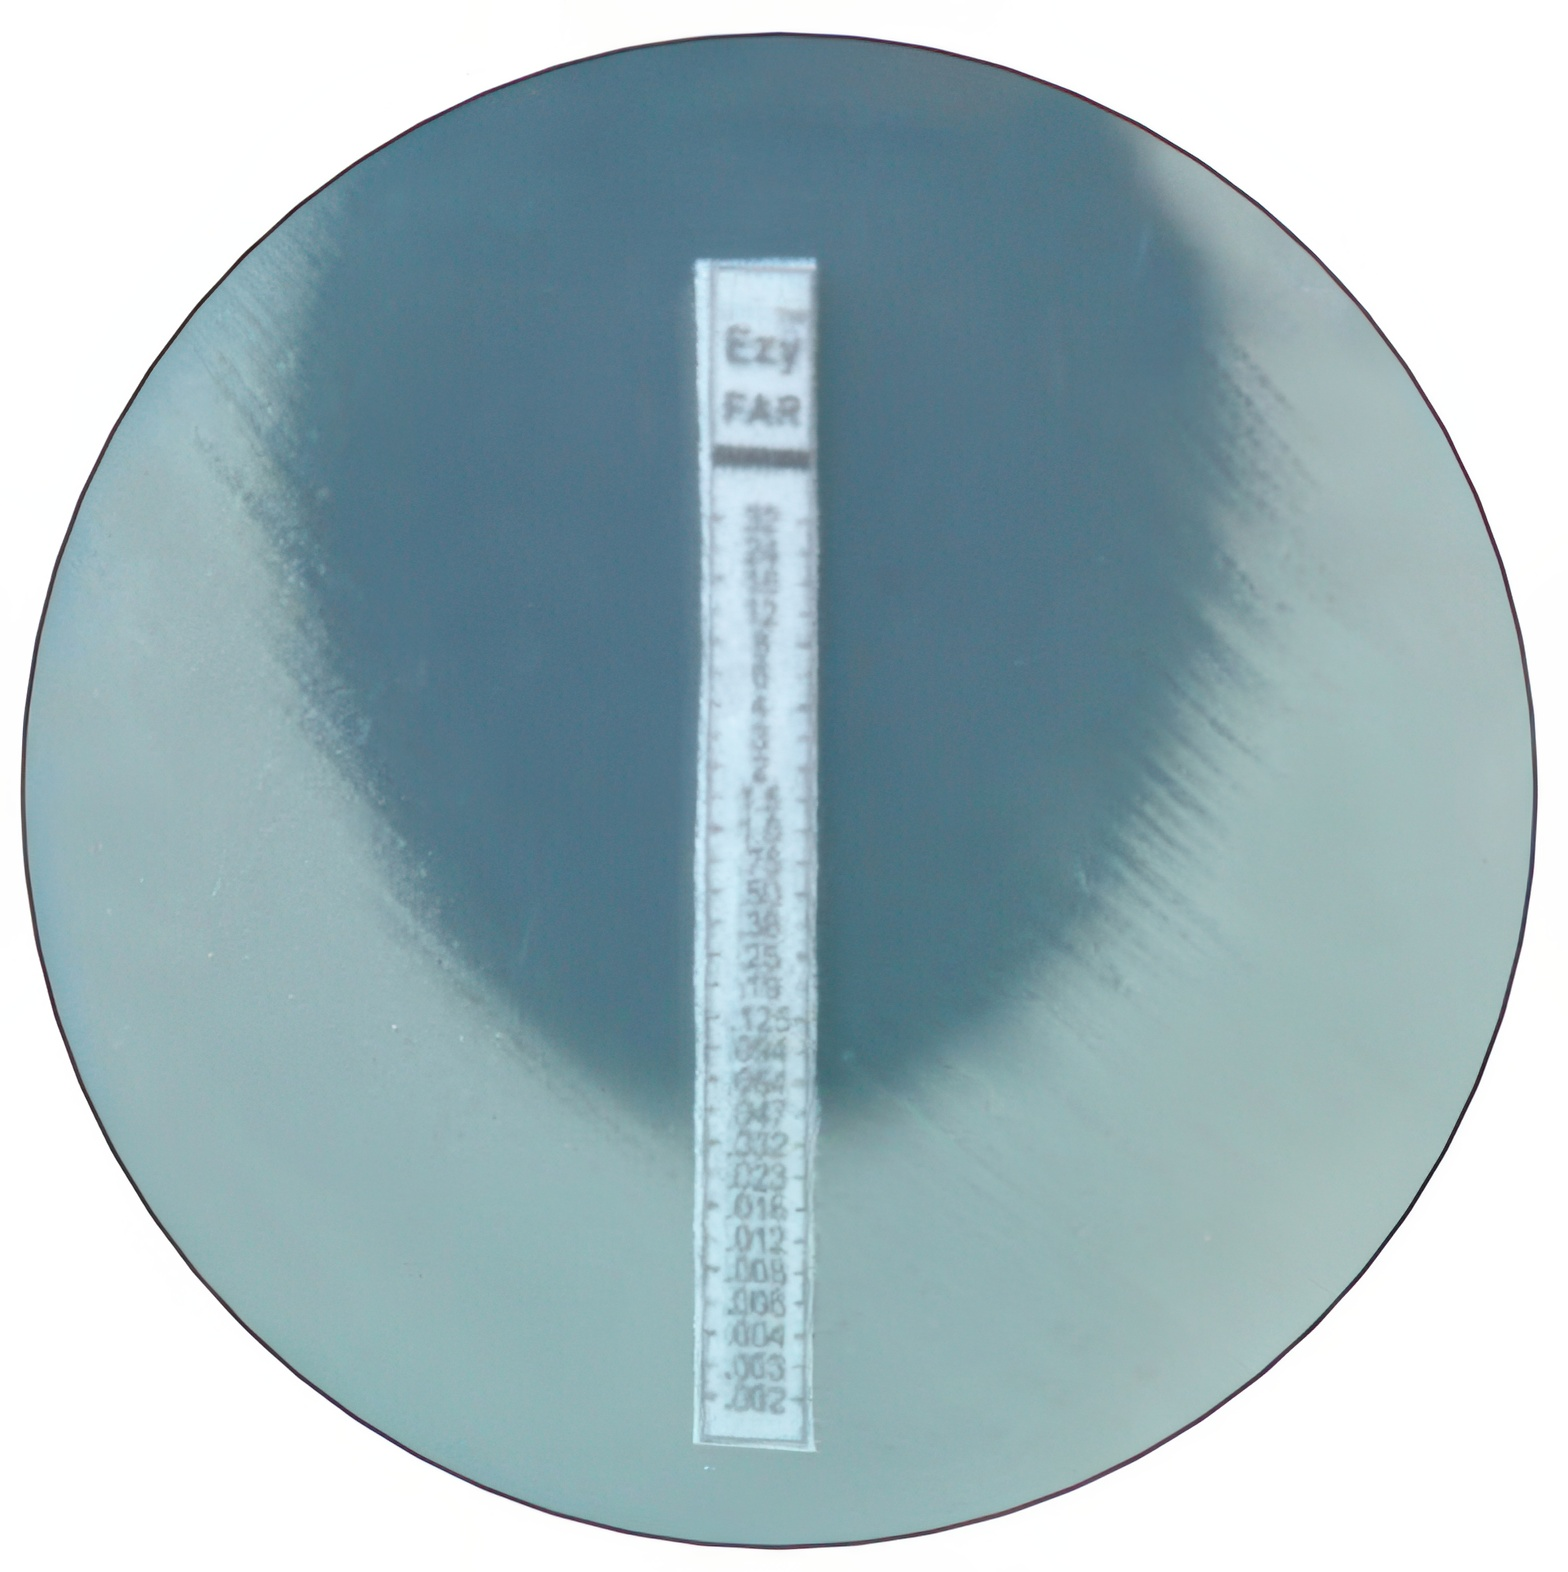line: (691, 256, 824, 1454)
zone: (290, 34, 1202, 1123)
